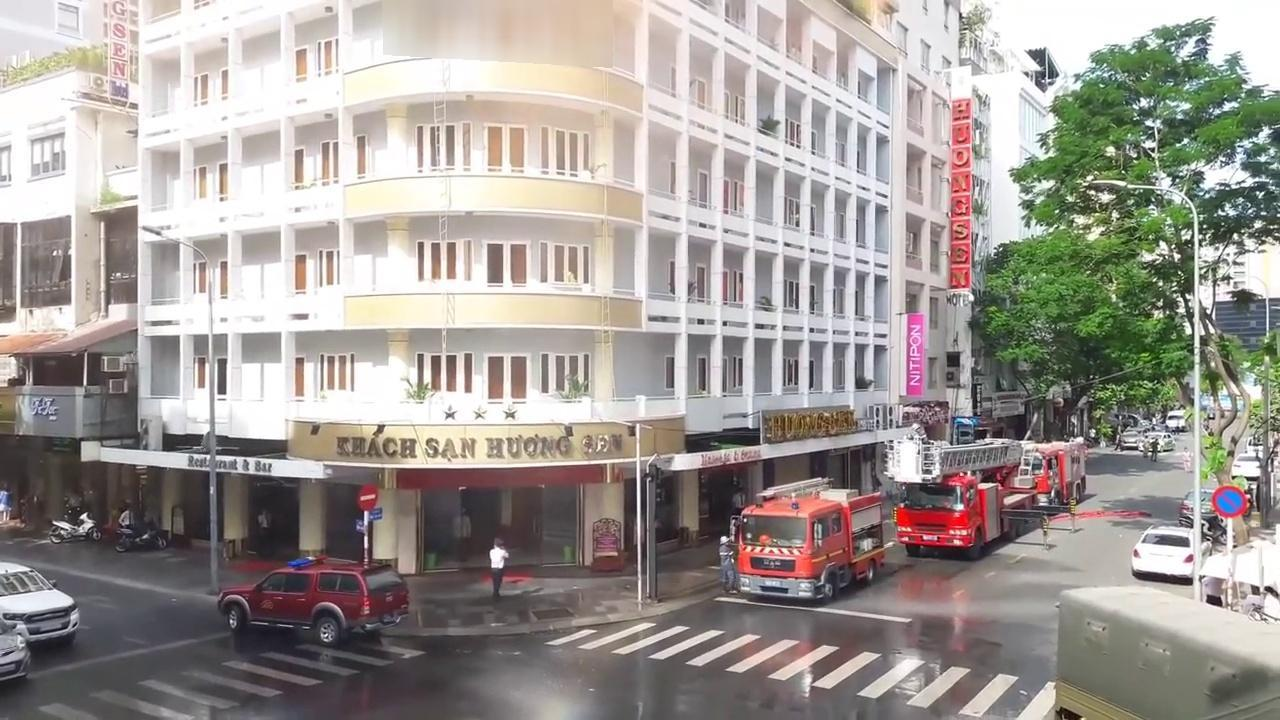xe cuu hoa: (738, 476, 883, 604), (888, 436, 1035, 550), (1006, 436, 1086, 513)
xe hoi: (216, 556, 409, 642), (0, 560, 79, 654), (1128, 523, 1210, 579), (1179, 488, 1220, 527)
xe tai: (1055, 583, 1280, 720)
